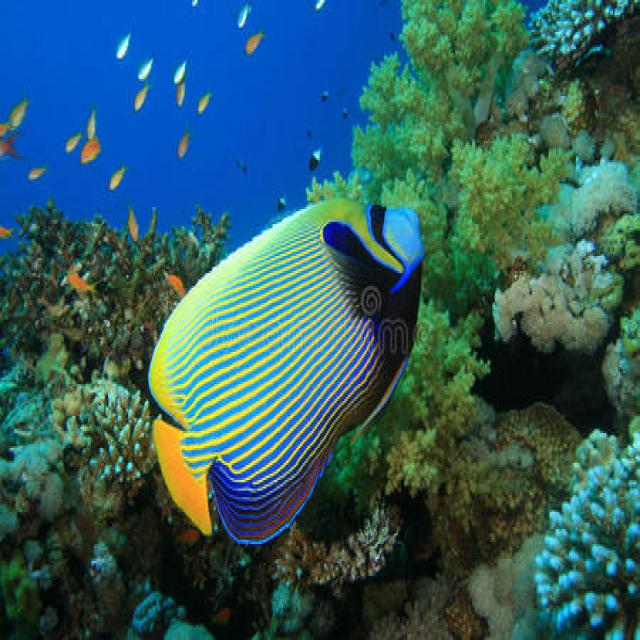AngelFish: (143, 199, 427, 549)
